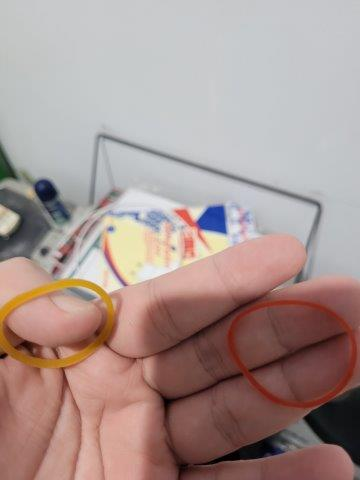karet: (227, 297, 357, 410), (1, 278, 118, 370)
